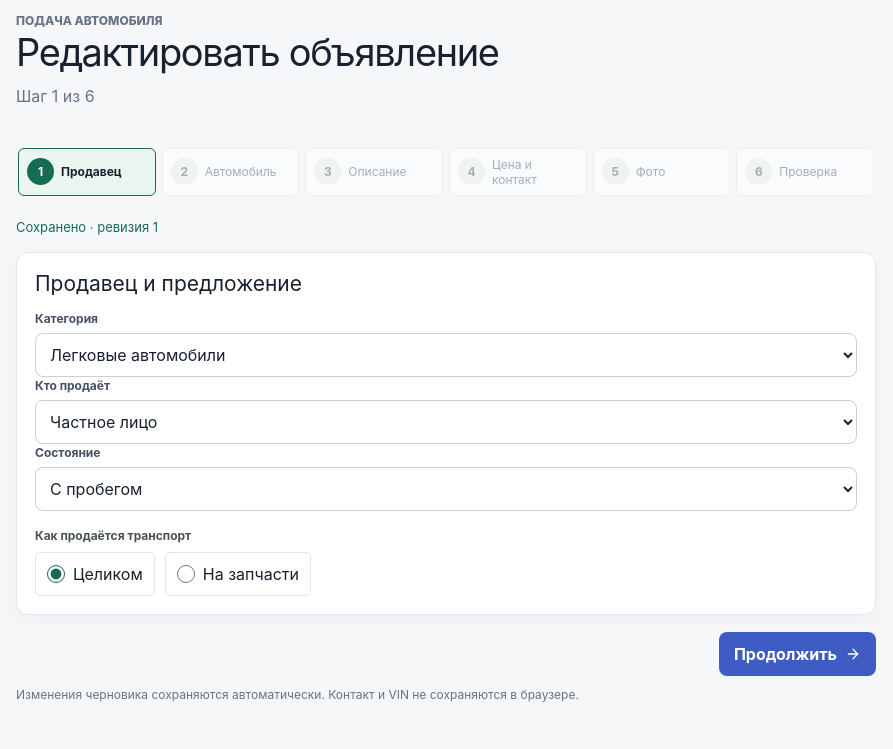
manual vehicle entry › reopens an incomplete draft with nullable catalog and price fields
Click the button "Продолжить". click: (797, 654)
box: [719,632,876,676]
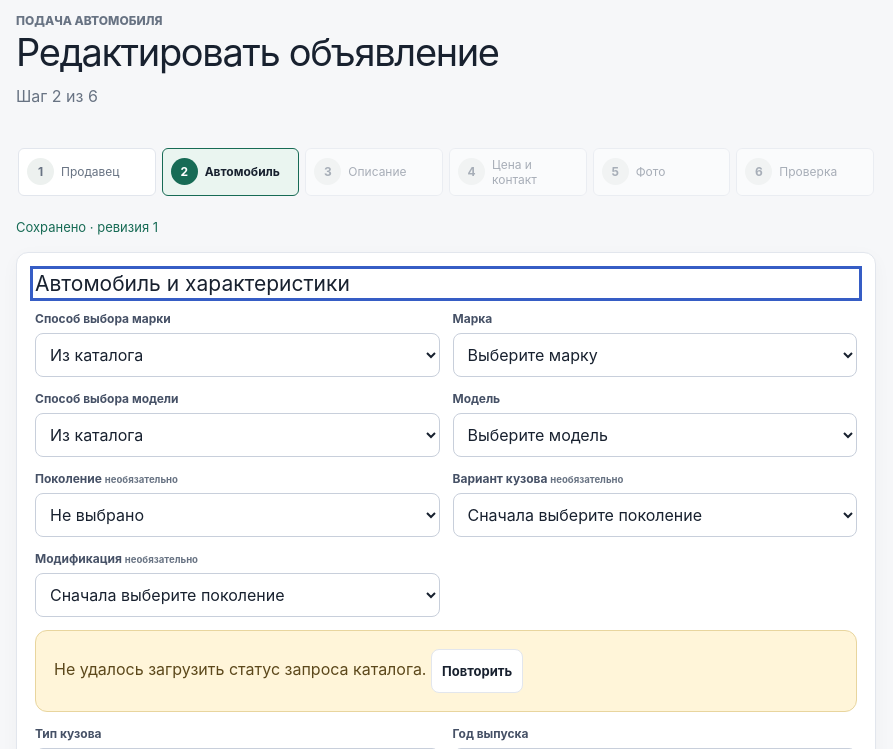
expect the dropdown named "Источник марки" shows "Из каталога": met, box [35,333,440,377]
